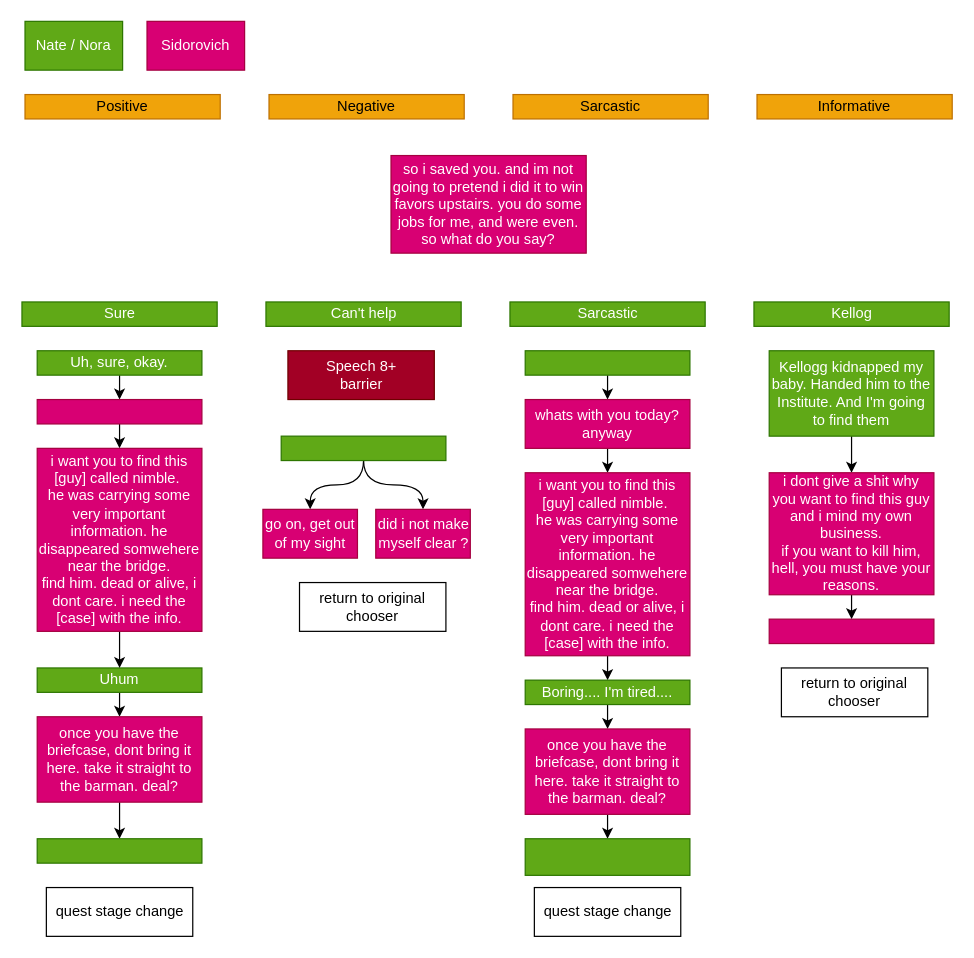
Some shapes in this 974 by 958 pixel diagram are drawn without their labels. Here are the shapes that lost their labels. From the top down, the centre of each, then its label:
At (x=607, y=362): "Stupid junk dealer...".
At (x=119, y=411): "alright, listen.".
At (x=363, y=448): "Sorry, I can't help you.".
At (x=851, y=631): "so what do you say?".
At (x=119, y=850): "All right, deal.".
At (x=607, y=856): "Fine. Just point me in the right direction.".
